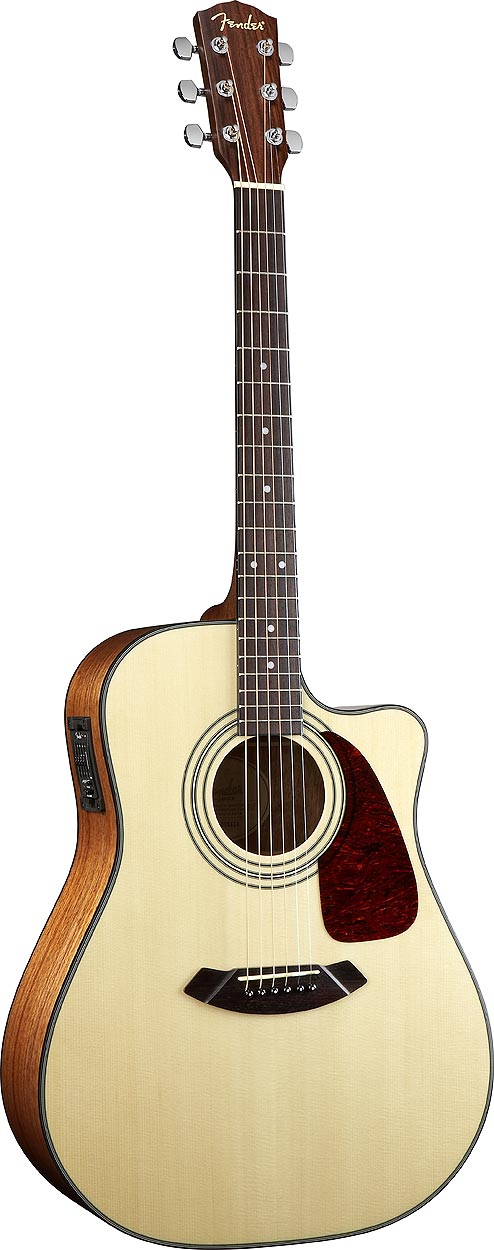guitar: (3, 1, 494, 1250)
